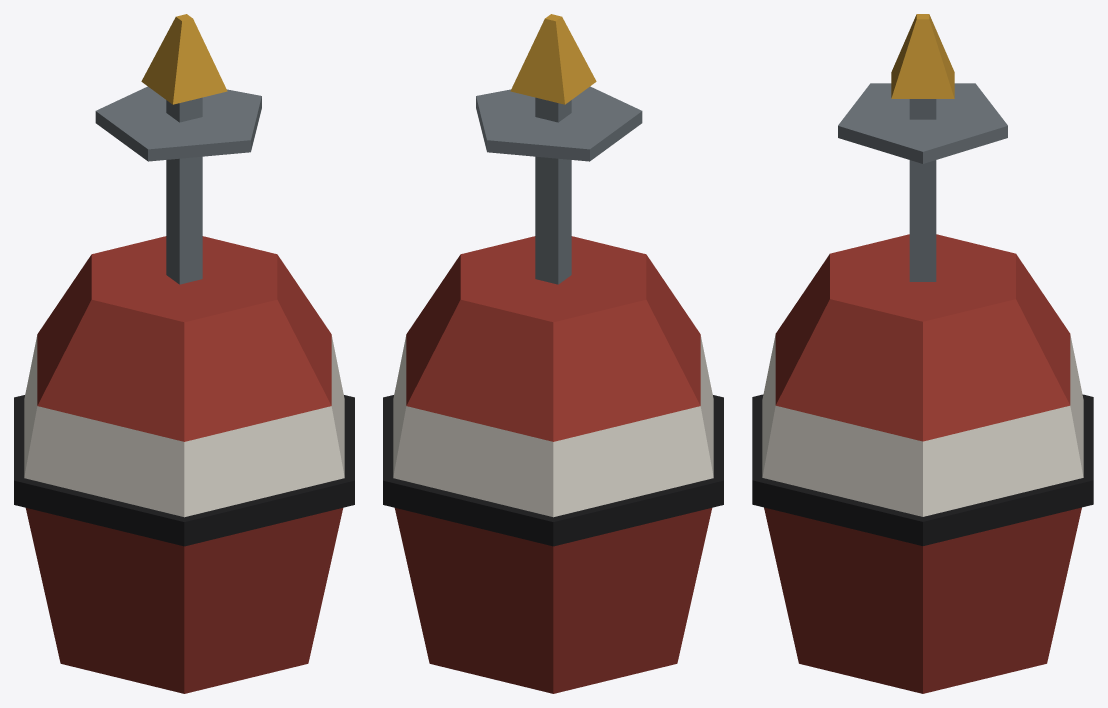
Rendered from buoy.glb.
3 renders of one model, left to right at view 1: azimuth 30°, elevation 25°; view 2: azimuth 150°, elevation 25°; view 3: azimuth 270°, elevation 25°, orthographic.
Parts seen in each view (by area): view 1: buoy; view 2: buoy; view 3: buoy.
Boxes of the visible parts, x1,y1,x2,y2 form: buoy: (14, 14, 354, 693); buoy: (383, 14, 723, 693); buoy: (752, 14, 1093, 693).
Size of what is drawn, in the model's own units: 0.88 by 1.58 by 0.7621.
Materials: 2 (2 with a texture image).
